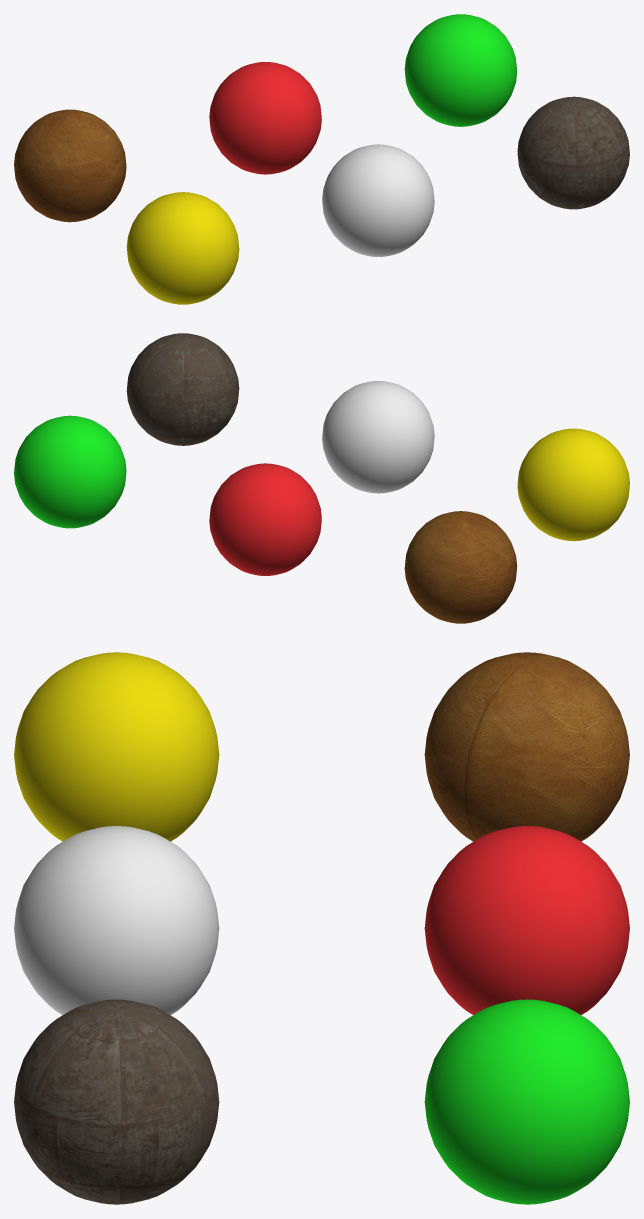
The model's file is pbr.glb.
3 views of the same model, one above another, from view 1: azimuth 30°, elevation 25°; view 2: azimuth 150°, elevation 25°; view 3: azimuth 270°, elevation 25° (orthographic). The views are drawn at different scales.
Visible parts, largest first — view 1: Sphere.004, Sphere.006, Sphere.001, Sphere.005, Sphere, Sphere.002; view 2: Sphere.001, Sphere.005, Sphere.004, Sphere.006, Sphere, Sphere.002; view 3: Sphere.001, Sphere.004, Sphere.005, Sphere.006, Sphere, Sphere.002.
Boxes of the visible parts, x1,y1,x2,y2 form: Sphere.004: (404,14,517,126); Sphere.006: (126,192,239,304); Sphere.001: (517,96,629,209); Sphere.005: (14,109,126,222); Sphere: (322,144,434,256); Sphere.002: (209,62,321,174); Sphere.001: (126,333,239,445); Sphere.005: (404,511,517,623); Sphere.004: (14,415,126,528); Sphere.006: (517,428,629,541); Sphere: (322,381,434,493); Sphere.002: (209,463,321,575); Sphere.001: (14,999,219,1204); Sphere.004: (424,999,629,1204); Sphere.005: (424,652,629,841); Sphere.006: (14,652,219,841); Sphere: (14,826,219,1014); Sphere.002: (424,826,629,1014).
Size of the model in its own units: 5 by 1 by 3.
Materials: 6 (2 with a texture image).
